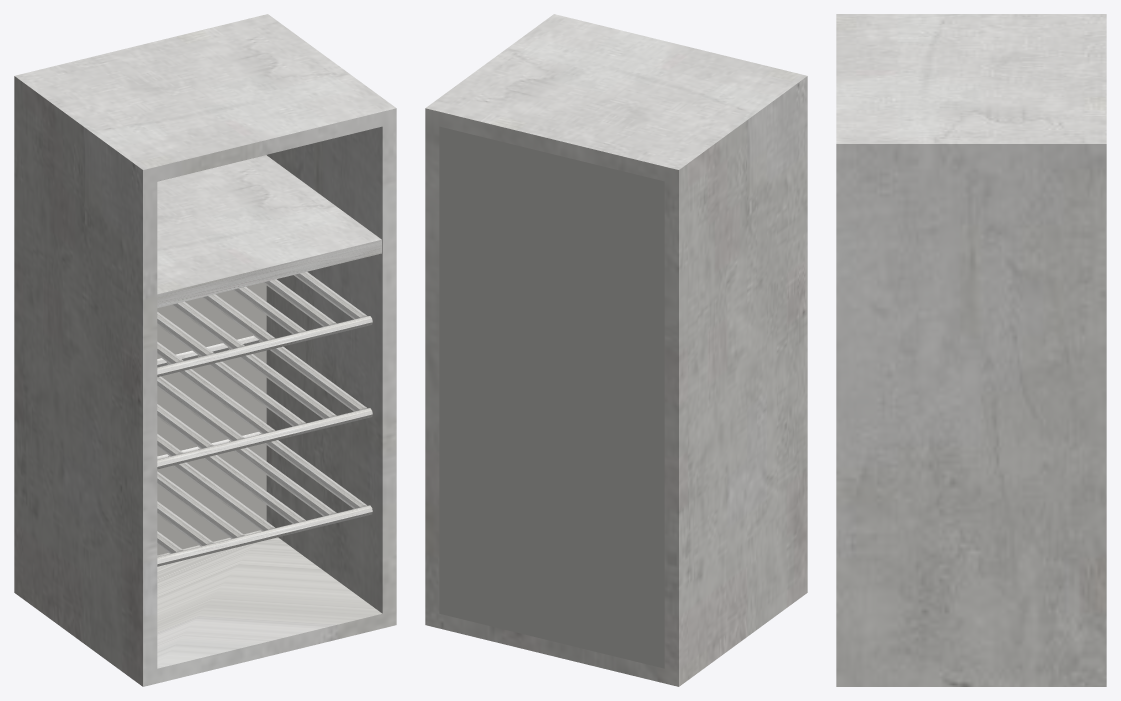
Rendered from холодильник.fbx.
The picture shows the model from 3 angles, left to right: view 1: azimuth 30°, elevation 25°; view 2: azimuth 150°, elevation 25°; view 3: azimuth 270°, elevation 25°; orthographic projection. The views are drawn at different scales.
Visible parts, largest first — view 1: Cube; view 2: Cube; view 3: Cube.
Boxes of the visible parts, box(x1,y1,x2,y2) form: Cube: box(14, 14, 396, 686); Cube: box(425, 14, 807, 686); Cube: box(836, 14, 1106, 686).
Size of the model in its own units: 416 by 811 by 366.
1 material, 1 textured.
